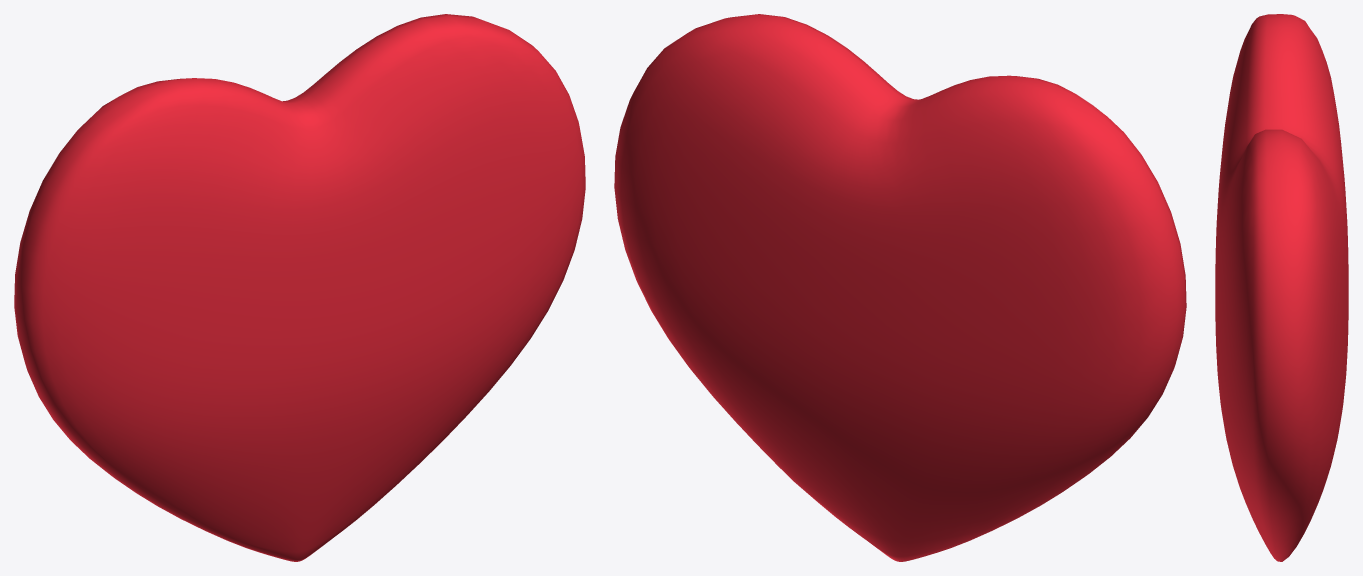
The model's file is Heart.fbx.
The picture shows the model from 3 angles, left to right: view 1: azimuth 30°, elevation 25°; view 2: azimuth 150°, elevation 25°; view 3: azimuth 270°, elevation 25°; orthographic projection. The views are drawn at different scales.
Visible parts, largest first — view 1: heart.001; view 2: heart.001; view 3: heart.001.
Part boxes in pixels (<box>): heart.001: <box>14,14,585,561</box>; heart.001: <box>614,14,1186,561</box>; heart.001: <box>1215,14,1348,561</box>.
Bounding box in the file's own units: 1709 × 1482 × 377.
